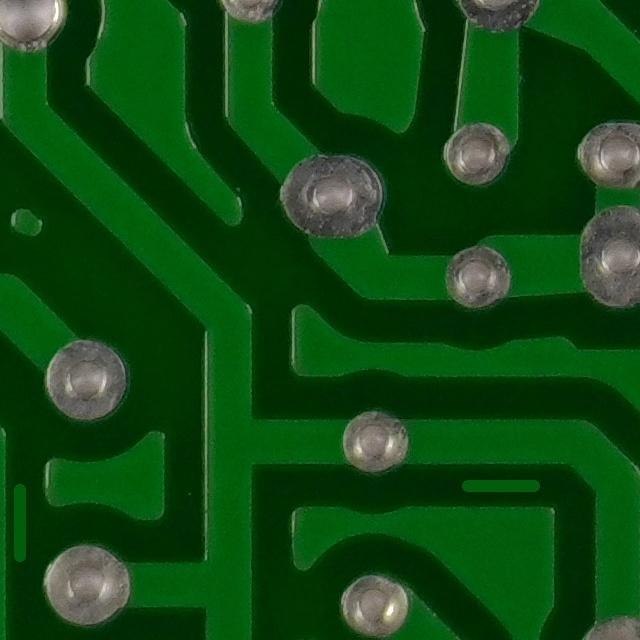spurious_copper: (447, 453, 553, 514), (0, 475, 44, 568)
